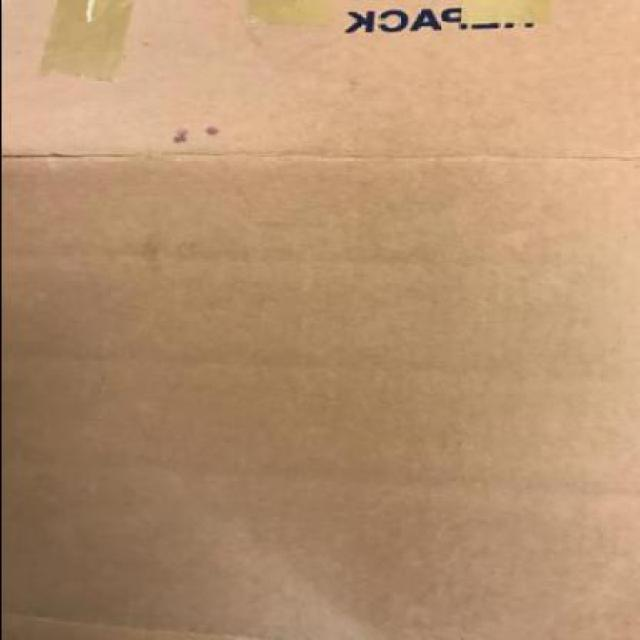CARDBOARD: (1, 0, 640, 638)
PLASTIC: (43, 0, 138, 81), (462, 0, 555, 25), (245, 0, 328, 24)
